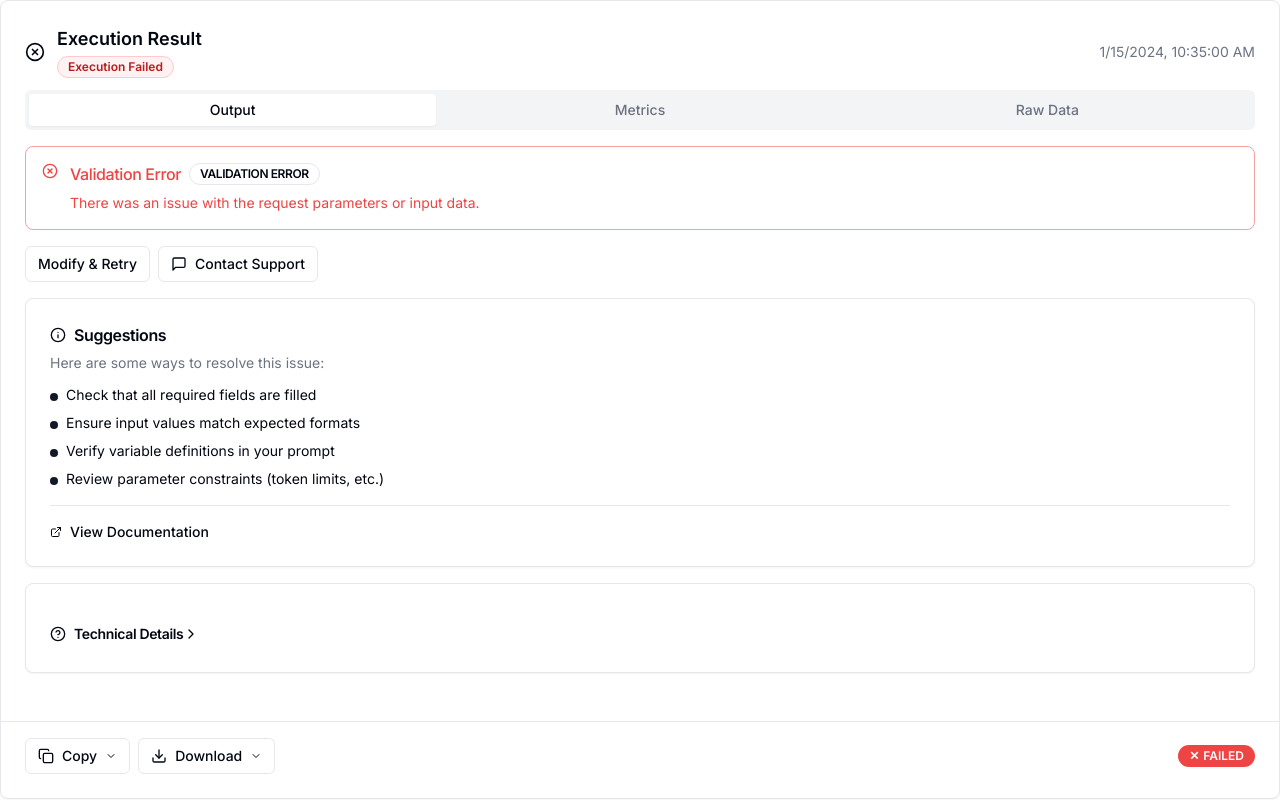
Test case: AIResultsViewer › Failed Execution Display › shows validation errors in raw data tab
This screenshot has width=1280, height=800.
Note: Switch to raw data tab
Click the button "Raw Data".
click(1047, 110)  # box [844,94,1251,126]
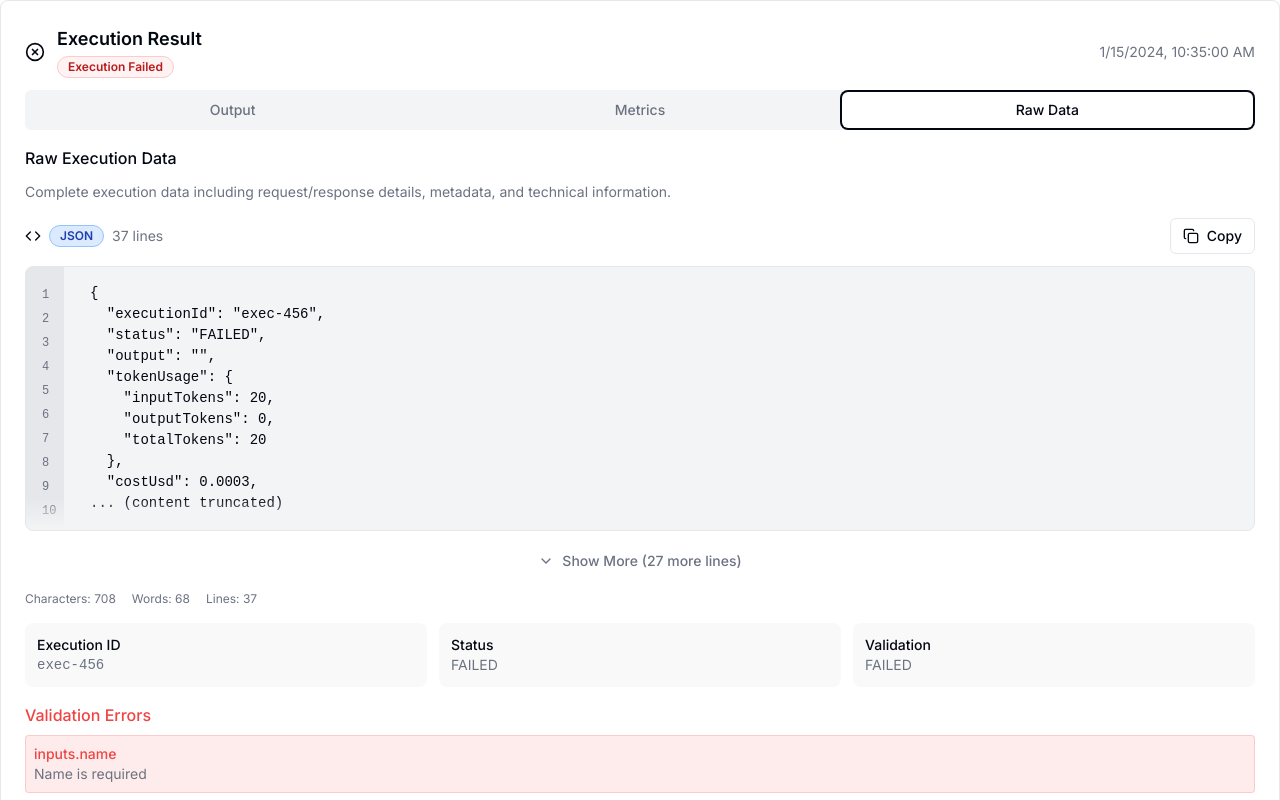
expect the heading "Validation Errors" is shown: met, box [25,705,151,725]
expect the text "inputs.name" is shown: met, box [34,745,116,762]
expect the text "Name is required" is shown: met, box [34,765,147,782]
